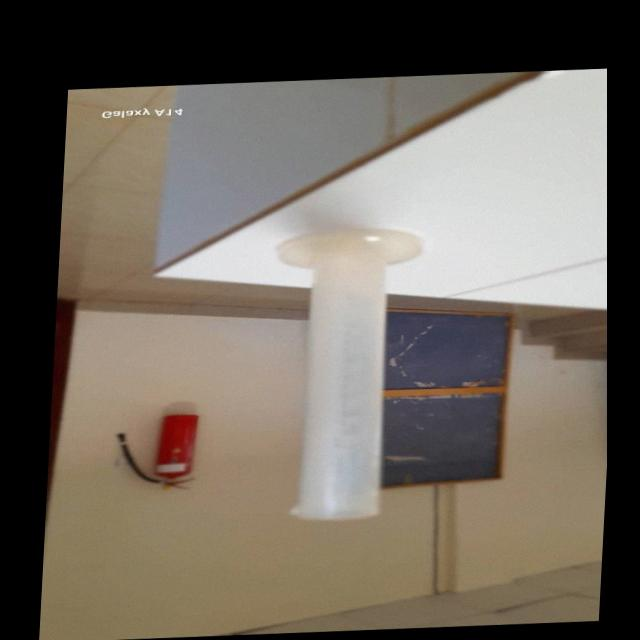Measuring Cylinder: (266, 223, 442, 526)
